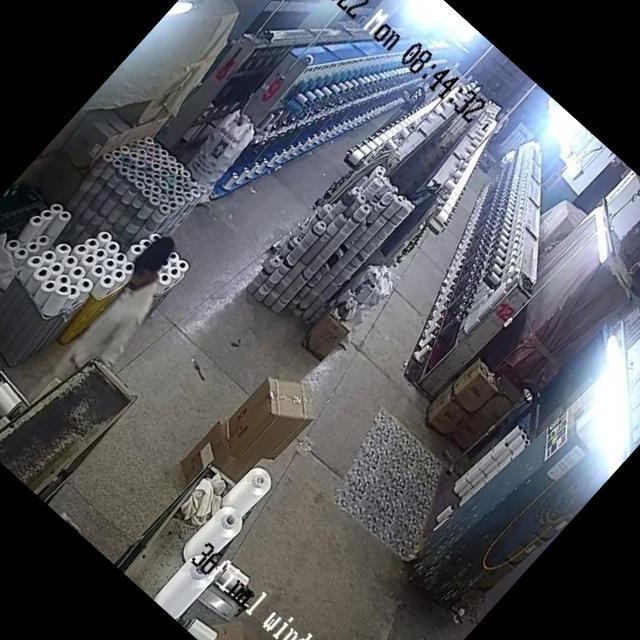person: (72, 232, 201, 368), (384, 80, 431, 130)
